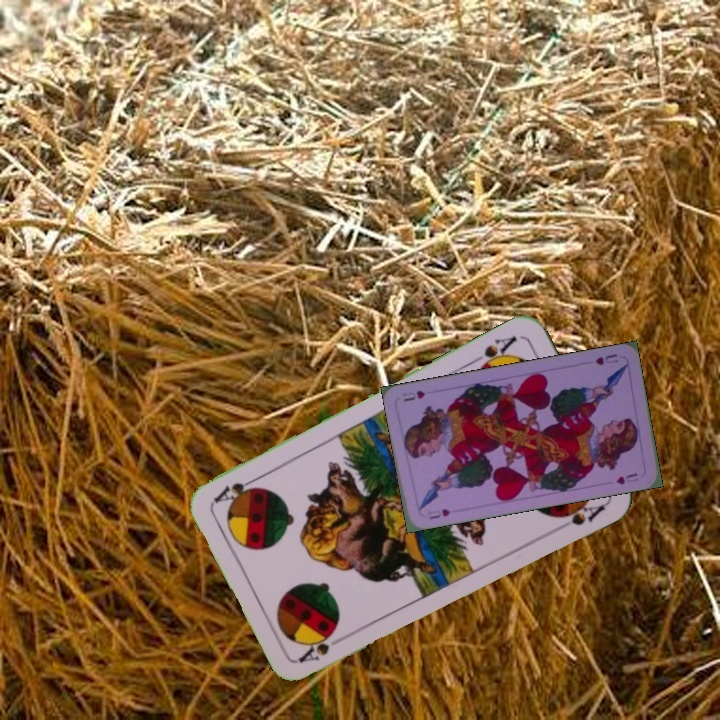HU: (592, 349, 620, 368), (425, 505, 452, 522)
SA: (467, 331, 520, 375), (295, 630, 350, 665)
